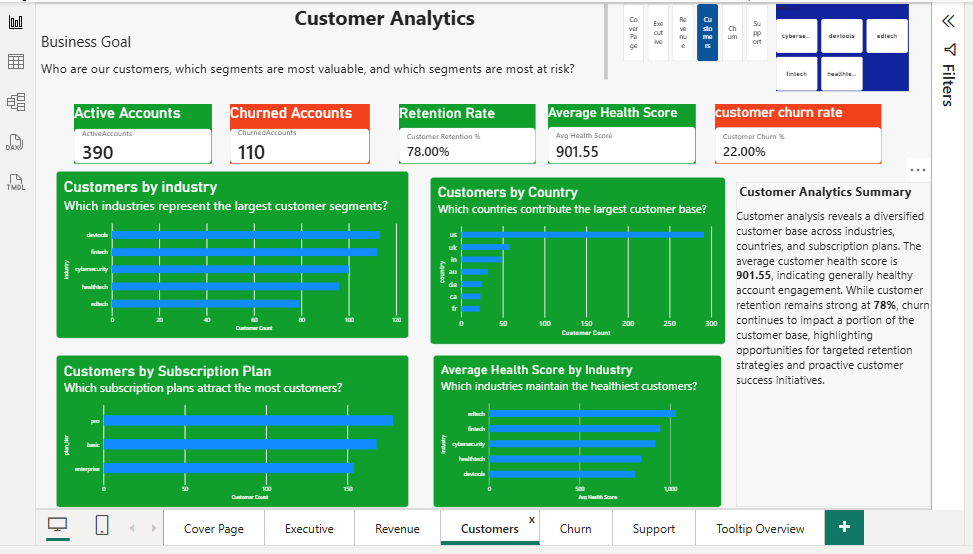

What the dashboard file says about the page in this screenshot:
{"tool":"powerbi","page":{"name":"Customers","canvas":[1920,1080],"ordinal":3},"visuals":[{"type":"textbox","box":[10.6,0,1216.1,168],"z":0},{"type":"cardVisual","title":"Active Accounts","fields":{"Data":["dim_accounts.ActiveAccounts"]},"box":[80.8,214.7,295.5,127.6],"z":1000},{"type":"cardVisual","title":"Churned Accounts","fields":{"Data":["dim_accounts.ChurnedAccounts"]},"box":[416.7,214.7,299.8,127.6],"z":2000},{"type":"cardVisual","title":"Retention Rate","fields":{"Data":["dim_accounts.Customer Retention %"]},"box":[778.1,214.7,293.4,127.6],"z":3000},{"type":"cardVisual","title":"customer churn rate","fields":{"Data":["dim_accounts.Customer Churn %"]},"box":[1456.3,214.7,357.2,127.6],"z":4000},{"type":"cardVisual","title":"Average Health Score","fields":{"Data":["DimDate.Avg Health Score"]},"box":[1099.1,214.7,316.8,127.6],"z":5000},{"type":"clusteredBarChart","title":"Customers by industry","fields":{"Category":["fct_customer_health.industry"],"Y":["DimDate.Customer Count"]},"box":[42.5,359.3,756.9,359.3],"z":6000},{"type":"clusteredBarChart","title":"Customers by Country","fields":{"Category":["fct_customer_health.country"],"Y":["DimDate.Customer Count"]},"box":[846.1,372,633.5,359.3],"z":7000},{"type":"clusteredBarChart","title":"Customers by Subscription Plan","fields":{"Category":["fct_customer_health.plan_tier"],"Y":["DimDate.Customer Count"]},"box":[42.5,752.6,756.9,327.4],"z":8000},{"type":"clusteredBarChart","title":"Average Health Score by Industry","fields":{"Category":["fct_customer_health.industry"],"Y":["DimDate.Avg Health Score"]},"box":[852.5,752.6,618.7,327.4],"z":9000},{"type":"textbox","box":[1500.9,382.7,418.8,697.3],"z":10000},{"type":"pageNavigator","box":[1258.6,0,314.6,123.3],"z":11000},{"type":"advancedSlicerVisual","fields":{"Values":["dim_accounts.industry"]},"box":[1588.1,0,284.9,187.1],"z":11001}]}

Visuals, with their boxes on the page's 1920x1080 design canvas (x1, y1, x2, y2). These are canvas units, not pixel positions in the 973x554 screenshot, which may show the page scaled, cropped or inside an application window:
textbox: 11:0:1227:168
"Active Accounts" cardVisual: 81:215:376:342
"Churned Accounts" cardVisual: 417:215:716:342
"Retention Rate" cardVisual: 778:215:1072:342
"customer churn rate" cardVisual: 1456:215:1814:342
"Average Health Score" cardVisual: 1099:215:1416:342
"Customers by industry" clusteredBarChart: 42:359:799:719
"Customers by Country" clusteredBarChart: 846:372:1480:731
"Customers by Subscription Plan" clusteredBarChart: 42:753:799:1080
"Average Health Score by Industry" clusteredBarChart: 852:753:1471:1080
textbox: 1501:383:1920:1080
pageNavigator: 1259:0:1573:123
advancedSlicerVisual - dim_accounts.industry: 1588:0:1873:187
